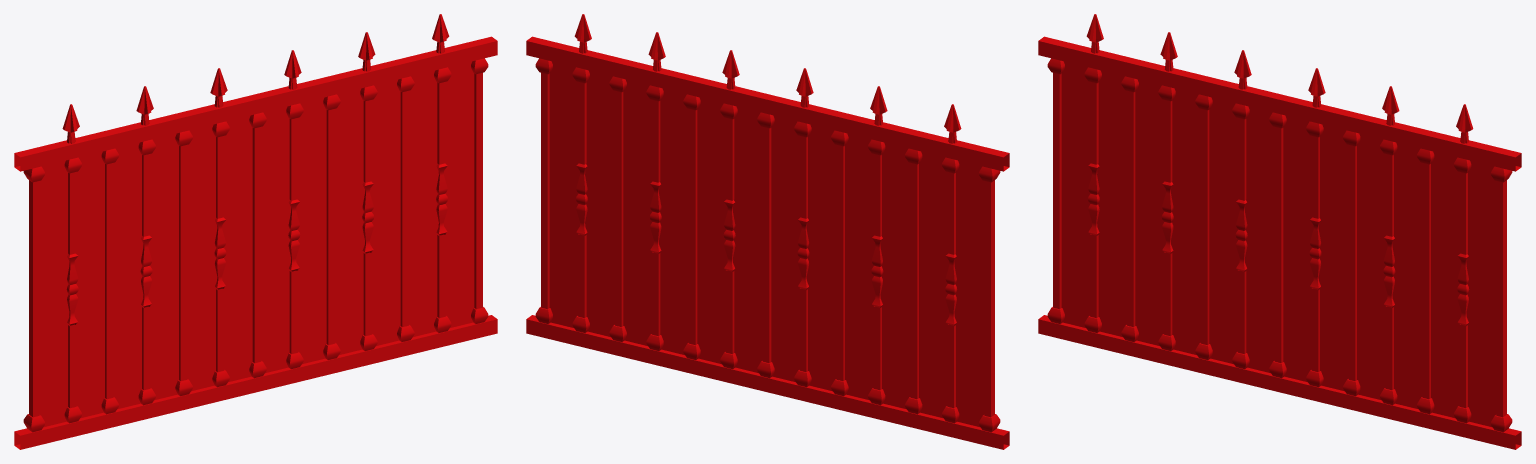
File: SM_fence_short.fbx
3 renders of one model, left to right at view 1: azimuth 30°, elevation 25°; view 2: azimuth 150°, elevation 25°; view 3: azimuth 330°, elevation 25°, orthographic.
Visible parts, largest first — view 1: fence_short.001, fence_short; view 2: fence_short.001, fence_short; view 3: fence_short.001, fence_short.
Boxes of the visible parts, box(x1,y1,x2,y2) form: fence_short.001: box(39, 61, 474, 427); fence_short: box(14, 14, 497, 449); fence_short.001: box(549, 61, 984, 427); fence_short: box(526, 14, 1009, 449); fence_short.001: box(1061, 61, 1496, 427); fence_short: box(1038, 14, 1521, 449).
Size of the model in its own units: 140 by 92.5 by 4.53.
